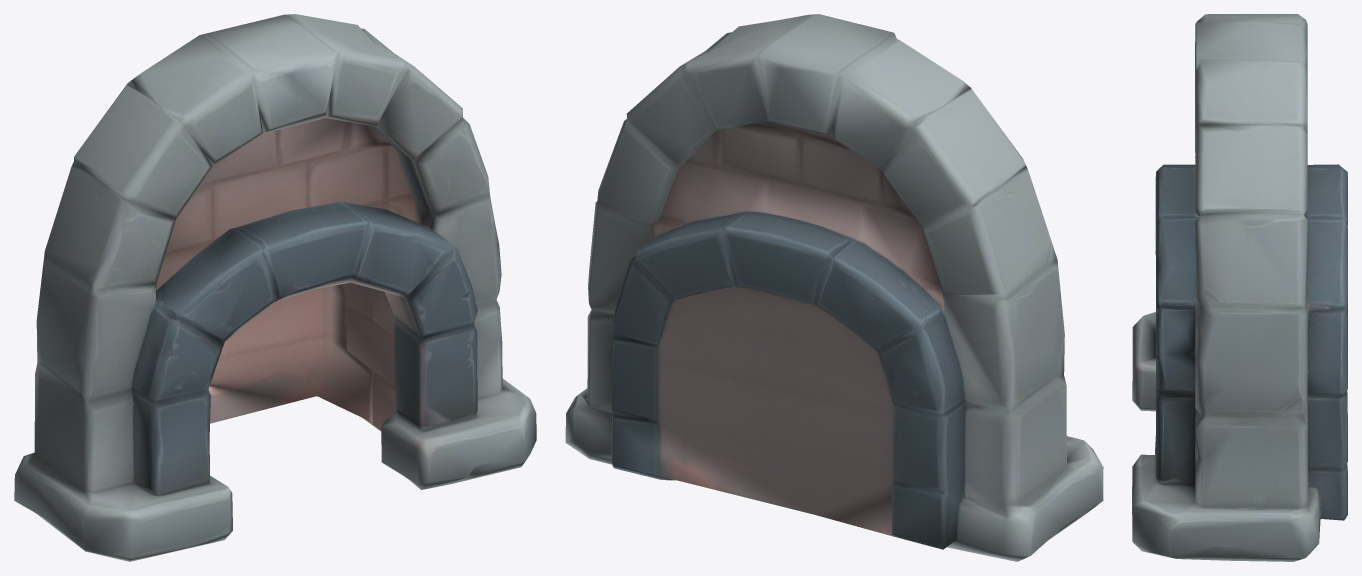
Rendered from reverse-hearth-arch.glb.
3 renders of one model, left to right at view 1: azimuth 30°, elevation 25°; view 2: azimuth 150°, elevation 25°; view 3: azimuth 270°, elevation 25°, orthographic. The views are drawn at different scales.
Visible parts, largest first — view 1: tripo_node_623f8ee1-c782-4747-b333-6fb8bba11419; view 2: tripo_node_623f8ee1-c782-4747-b333-6fb8bba11419; view 3: tripo_node_623f8ee1-c782-4747-b333-6fb8bba11419.
Boxes of the visible parts, x1,y1,x2,y2 form: tripo_node_623f8ee1-c782-4747-b333-6fb8bba11419: [14, 14, 536, 561]; tripo_node_623f8ee1-c782-4747-b333-6fb8bba11419: [565, 14, 1103, 561]; tripo_node_623f8ee1-c782-4747-b333-6fb8bba11419: [1132, 14, 1347, 561].
Bounding box in the file's own units: 0.9793 × 0.8936 × 0.4163.
1 material, 1 textured.
